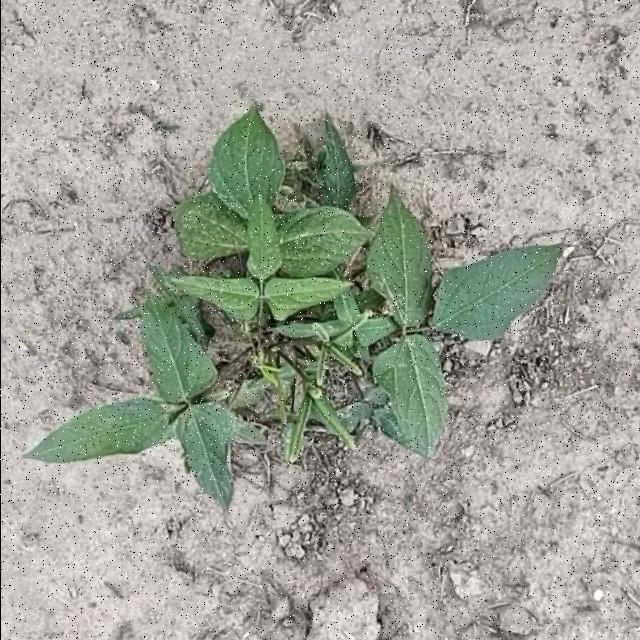plant: (24, 105, 563, 505)
